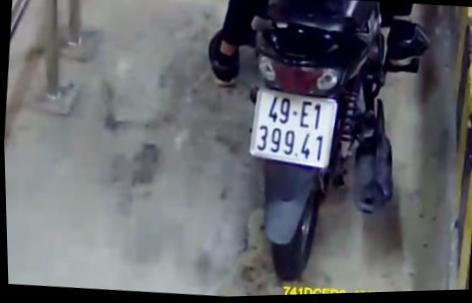LP: (244, 83, 341, 174)
